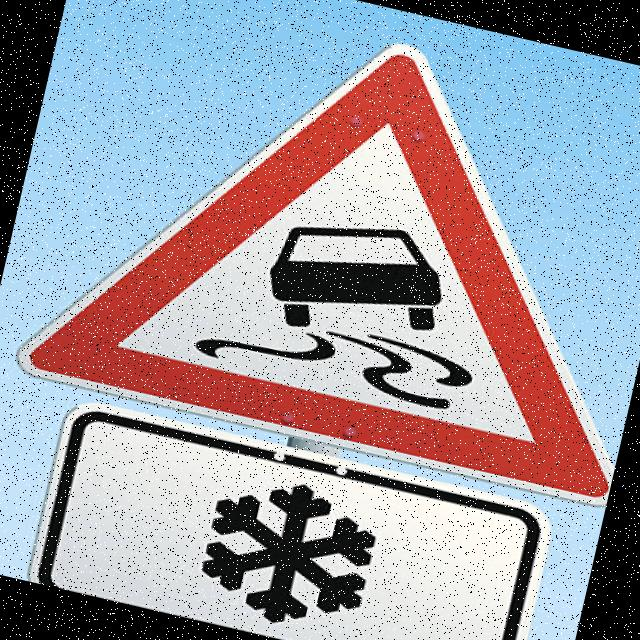road_slippery: (1, 0, 640, 518)
